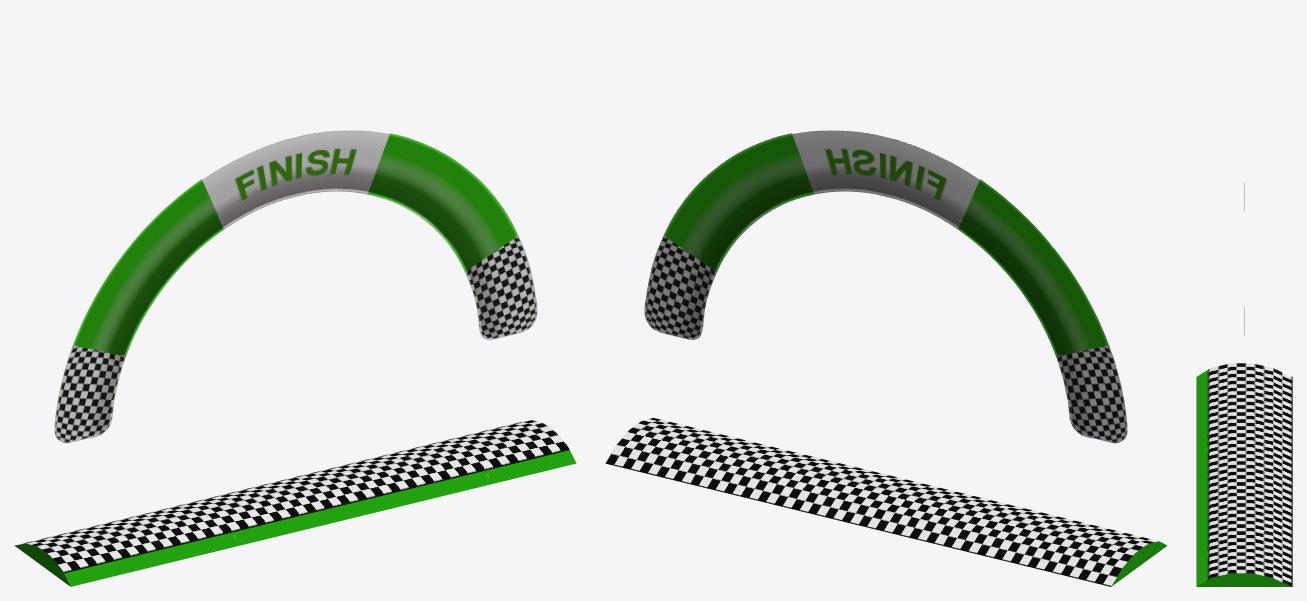
The model's file is Finish Point.FBX.
3 views of the same model, side by side, from view 1: azimuth 30°, elevation 25°; view 2: azimuth 150°, elevation 25°; view 3: azimuth 270°, elevation 25° (orthographic). The views are drawn at different scales.
Visible parts, largest first — view 1: Finish Banner, Finish Line; view 2: Finish Banner, Finish Line; view 3: Finish Line.
Part boxes in pixels (x1=…): Finish Banner: x1=54, y1=130, x2=537, y2=443; Finish Line: x1=14, y1=420, x2=576, y2=586; Finish Banner: x1=644, y1=130, x2=1127, y2=443; Finish Line: x1=605, y1=418, x2=1167, y2=586; Finish Line: x1=1196, y1=363, x2=1292, y2=586.
Size of the model in its own units: 156 by 127 by 30.26.
1 material, 1 textured.
